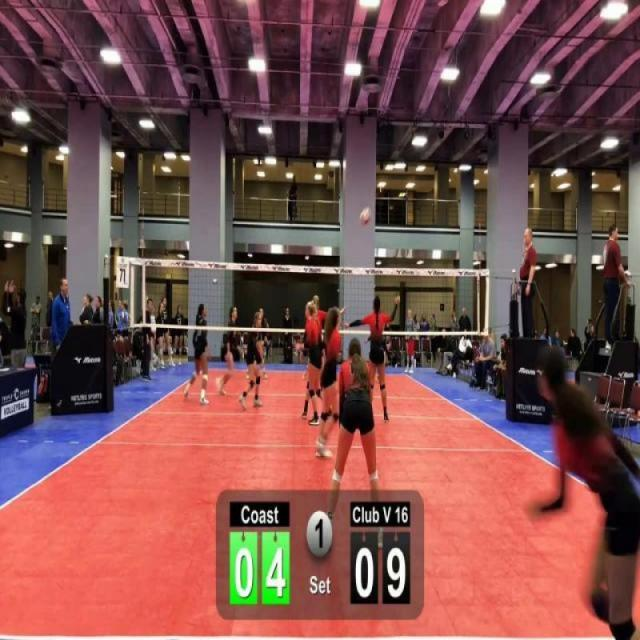volleyball: (359, 206, 372, 227)
